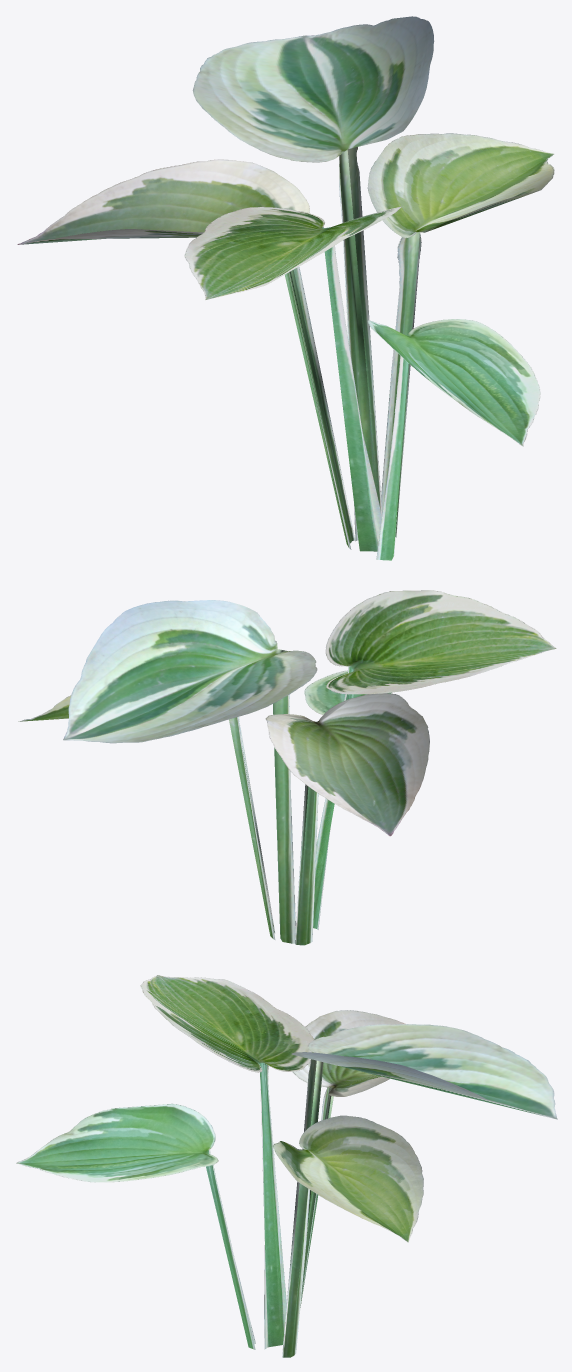
Rendered from plant_small_wg_00F.fbx.
3 renders of one model, top to bottom at view 1: azimuth 30°, elevation 25°; view 2: azimuth 150°, elevation 25°; view 3: azimuth 270°, elevation 25°, orthographic. The views are drawn at different scales.
Visible parts, largest first — view 1: plant_small_wg_00F; view 2: plant_small_wg_00F; view 3: plant_small_wg_00F.
Part boxes in pixels (x1,y1,x2,y2): plant_small_wg_00F: (17, 16, 554, 560); plant_small_wg_00F: (18, 590, 556, 945); plant_small_wg_00F: (16, 975, 557, 1357).
Size of the model in its own units: 41.81 by 33.61 by 49.41.
1 material, 1 textured.
